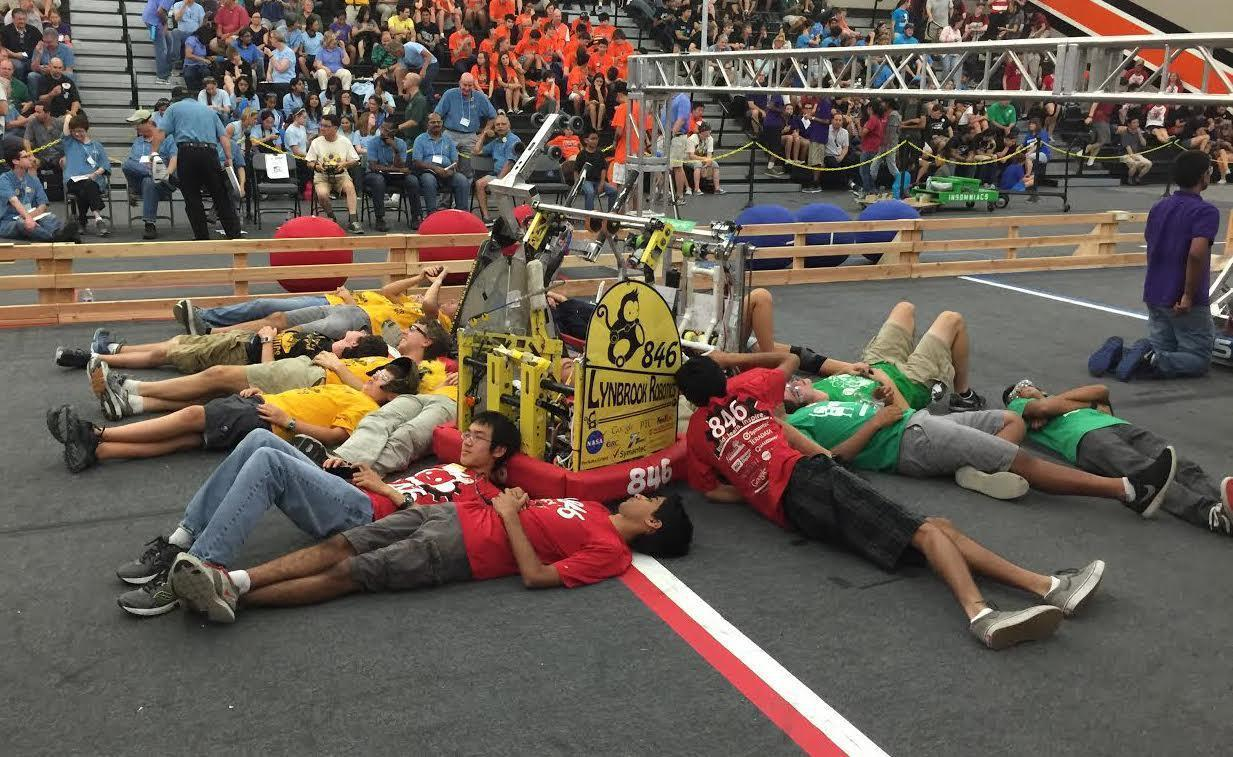robot: (417, 97, 712, 504), (603, 83, 789, 420)
